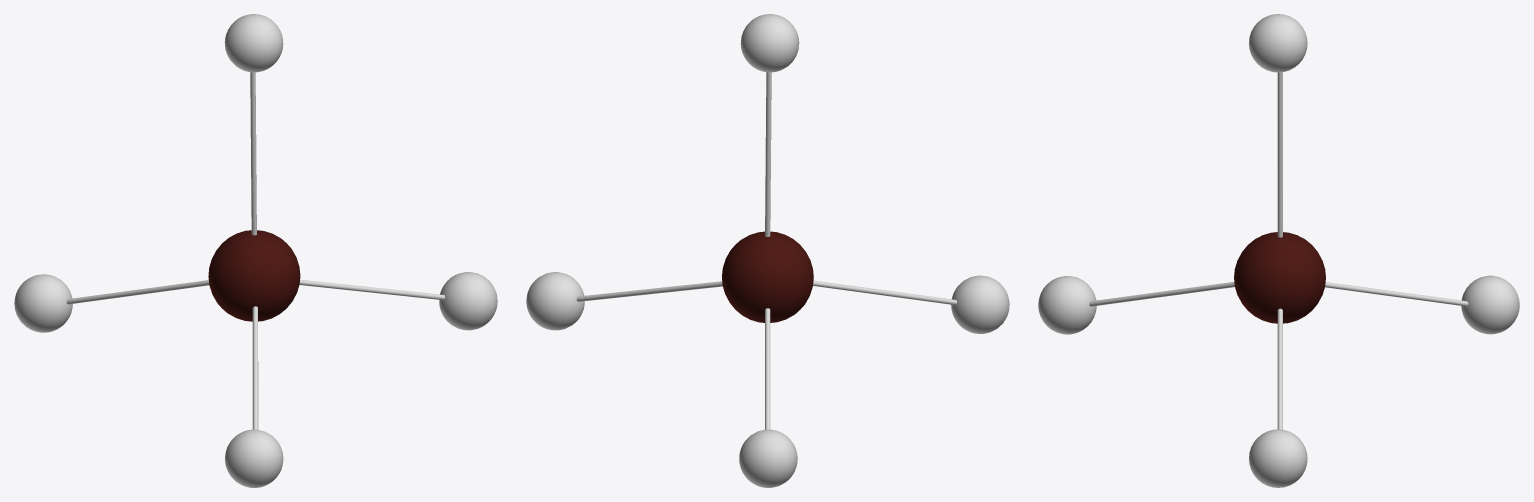
The model's file is methane.glb.
3 renders of one model, left to right at view 1: azimuth 30°, elevation 25°; view 2: azimuth 150°, elevation 25°; view 3: azimuth 270°, elevation 25°, orthographic.
Parts seen in each view (by area): view 1: Sphere, Sphere.000, Sphere.002, Sphere.001, Sphere.003, Cylinder.000, Cylinder.001, Cylinder.002, Cylinder.003; view 2: Sphere, Sphere.001, Sphere.000, Sphere.002, Sphere.003, Cylinder.000, Cylinder.001, Cylinder.003, Cylinder.002; view 3: Sphere, Sphere.003, Sphere.000, Sphere.001, Sphere.002, Cylinder.000, Cylinder.003, Cylinder.002, Cylinder.001.
Part boxes in pixels (x1,y1,x2,y2): Sphere: (208,230,300,321); Sphere.000: (224,14,283,72); Sphere.002: (225,429,283,487); Sphere.001: (14,274,72,332); Sphere.003: (439,272,497,330); Cylinder.000: (250,72,256,235); Cylinder.001: (299,279,444,300); Cylinder.002: (66,280,209,304); Cylinder.003: (252,306,258,429); Sphere: (722,231,813,322); Sphere.001: (739,429,797,487); Sphere.000: (740,14,799,72); Sphere.002: (951,275,1009,333); Sphere.003: (526,272,584,330); Cylinder.000: (765,72,771,236); Cylinder.001: (576,281,722,301); Cylinder.003: (813,280,956,305); Cylinder.002: (765,308,770,429); Sphere: (1234,232,1325,323); Sphere.003: (1249,429,1307,487); Sphere.000: (1249,14,1307,72); Sphere.001: (1461,275,1519,334); Sphere.002: (1038,276,1096,334); Cylinder.000: (1277,72,1282,237); Cylinder.003: (1089,282,1234,306); Cylinder.002: (1325,282,1468,306); Cylinder.001: (1277,308,1282,429).
Bounding box in the file's own units: 2.74 × 2.59 × 3.08.
